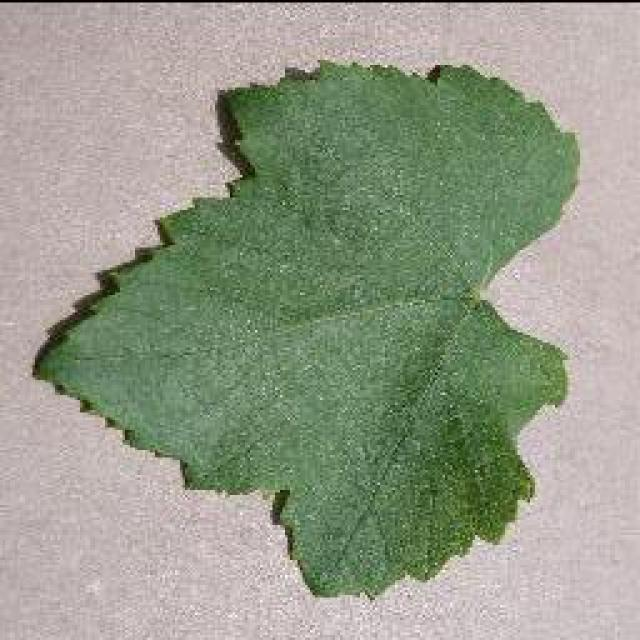Grape___healthy: (38, 62, 578, 595)
